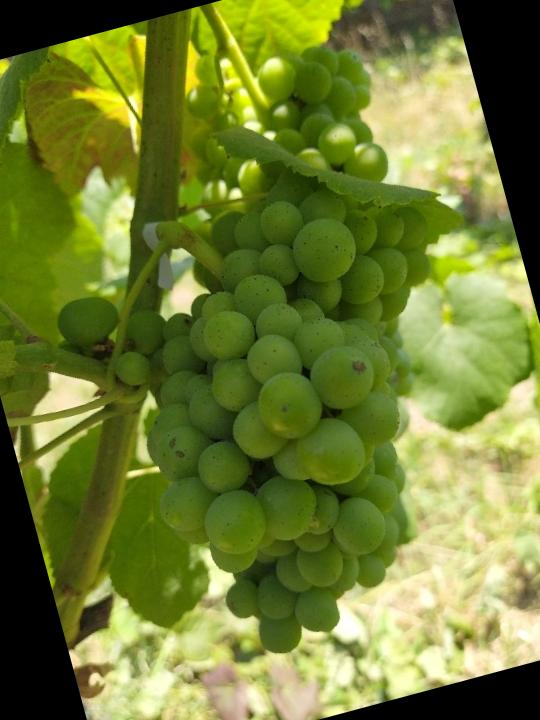grape: (35, 142, 523, 689)
